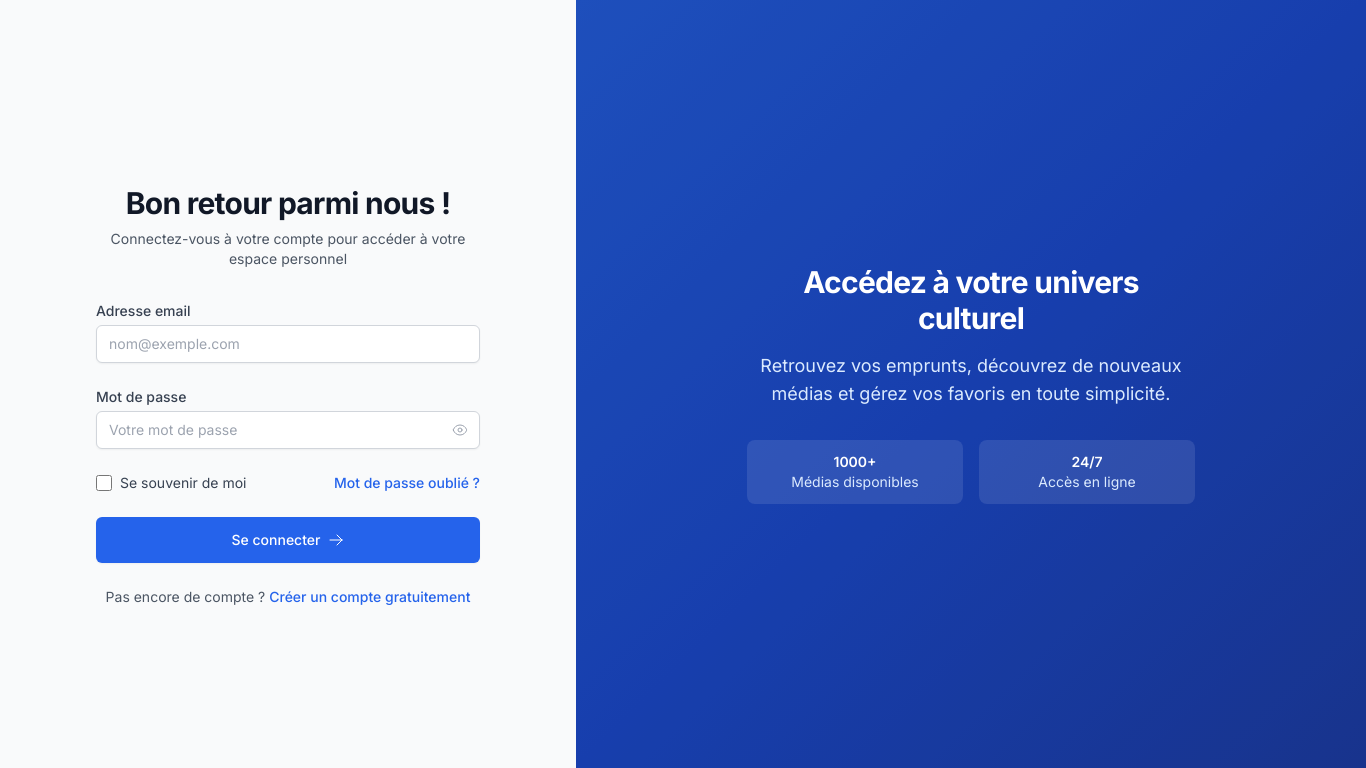
Test: LoginPage › devrait afficher l'état de chargement
Type "test@example.com" into the field with placeholder "nom@exemple.com" at (288, 344), box [96,325,480,363]
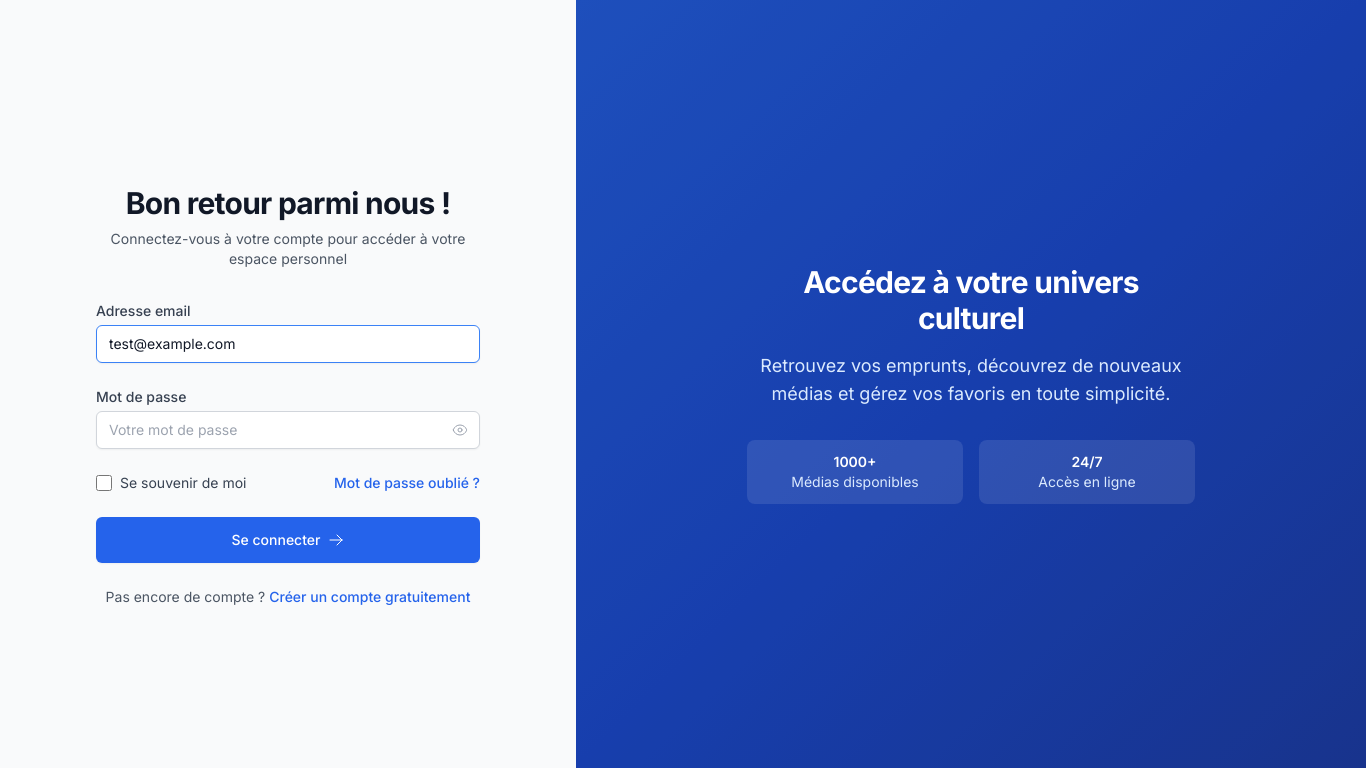
Type "password123" into the password field with placeholder "Votre mot de passe" at (288, 430), box [96,411,480,449]
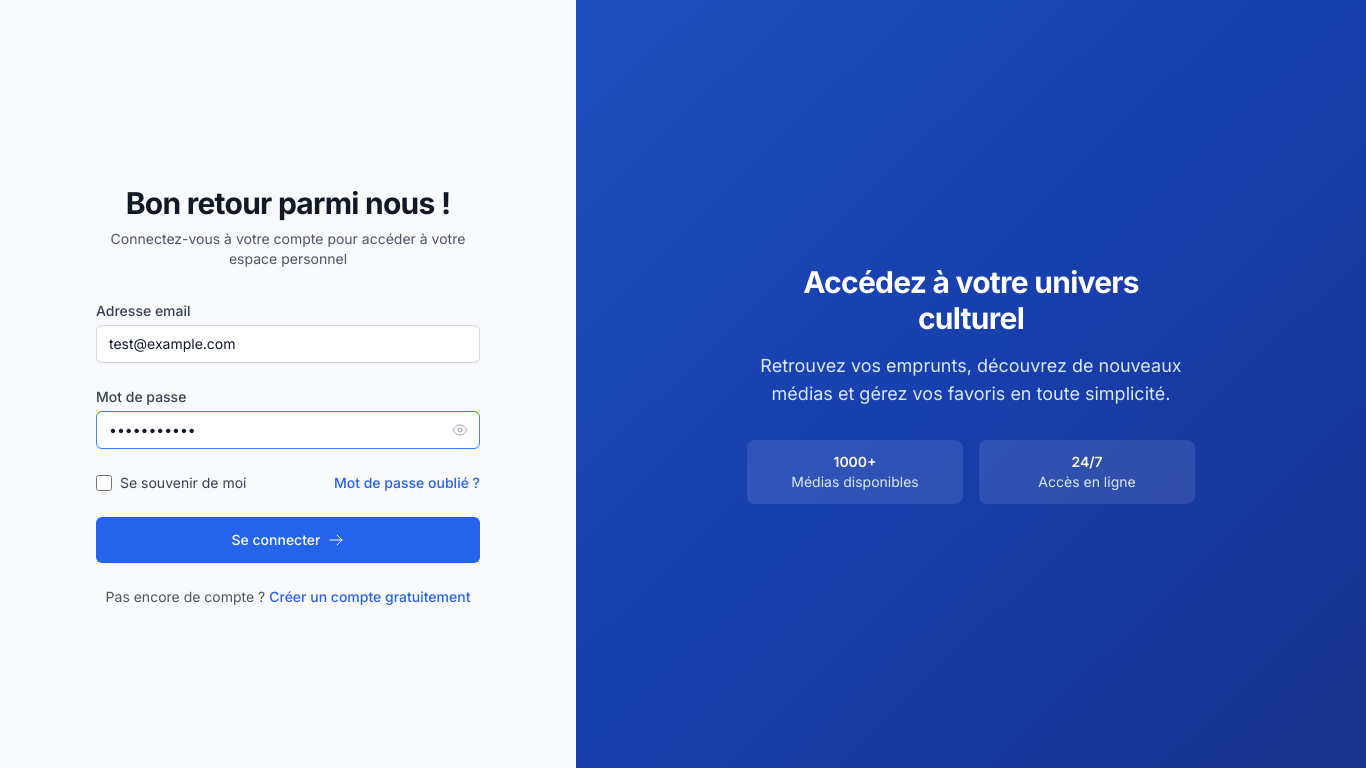
Click the button "Se connecter" at (288, 540), box [96,517,480,563]
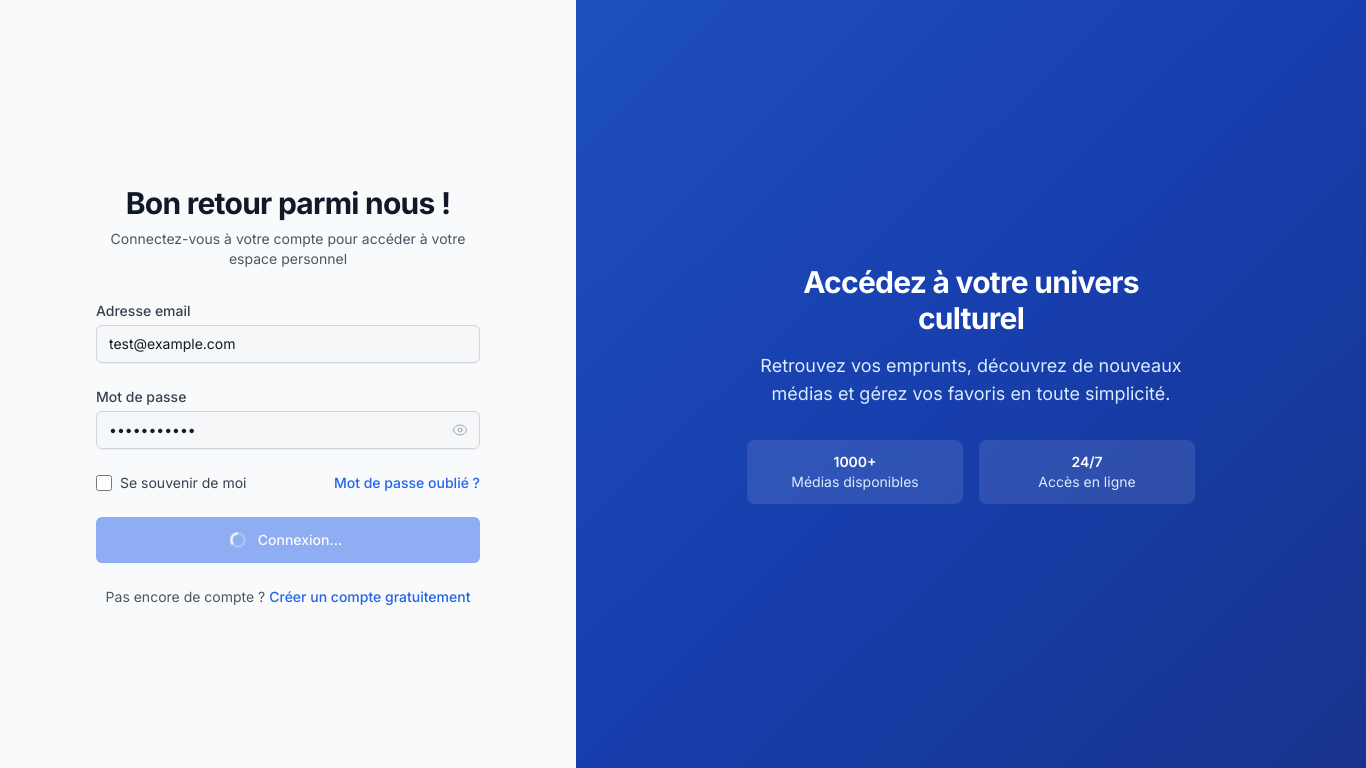
Result: the button "Connexion..." is disabled at [96,517,480,563]
